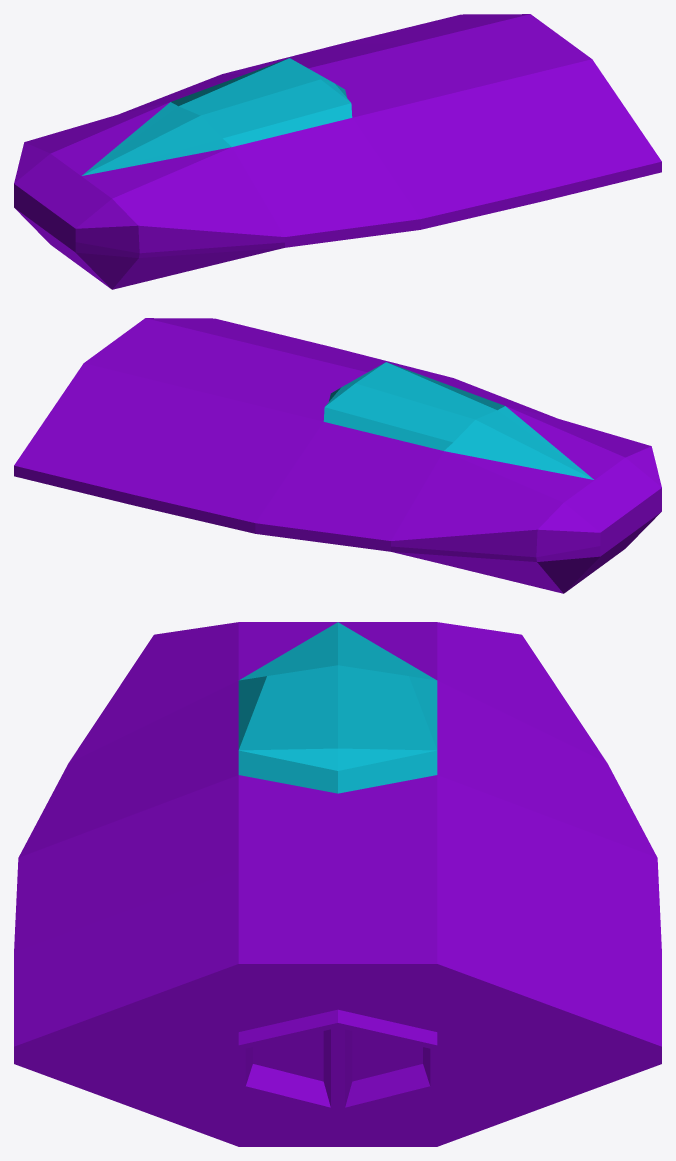
File: classic_spaceship.fbx
The picture shows the model from 3 angles, top to bottom: view 1: azimuth 30°, elevation 25°; view 2: azimuth 150°, elevation 25°; view 3: azimuth 270°, elevation 25°; orthographic projection. The views are drawn at different scales.
Parts seen in each view (by area): view 1: Spaceship; view 2: Spaceship; view 3: Spaceship.
Boxes of the visible parts, left/top/right/bottom form: Spaceship: left=14, top=14, right=661, bottom=289; Spaceship: left=14, top=318, right=661, bottom=593; Spaceship: left=14, top=622, right=661, bottom=1146.
Size of the model in its own units: 500 by 116 by 326.
